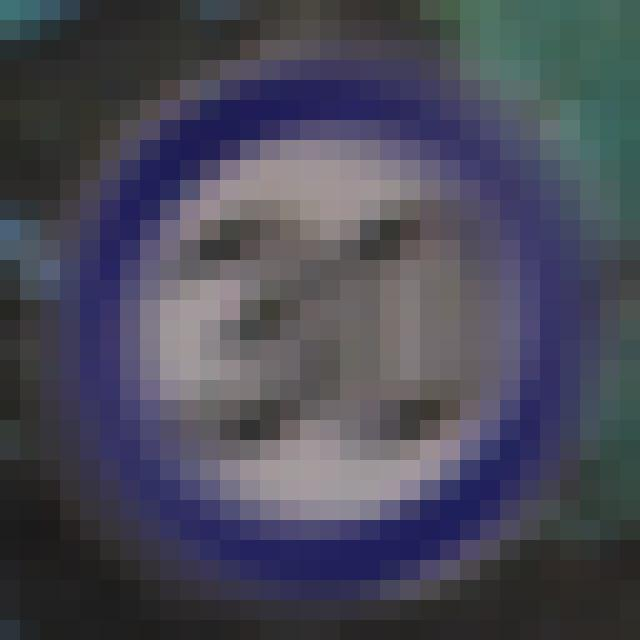SPEED LIMIT 30: (60, 83, 602, 583)
